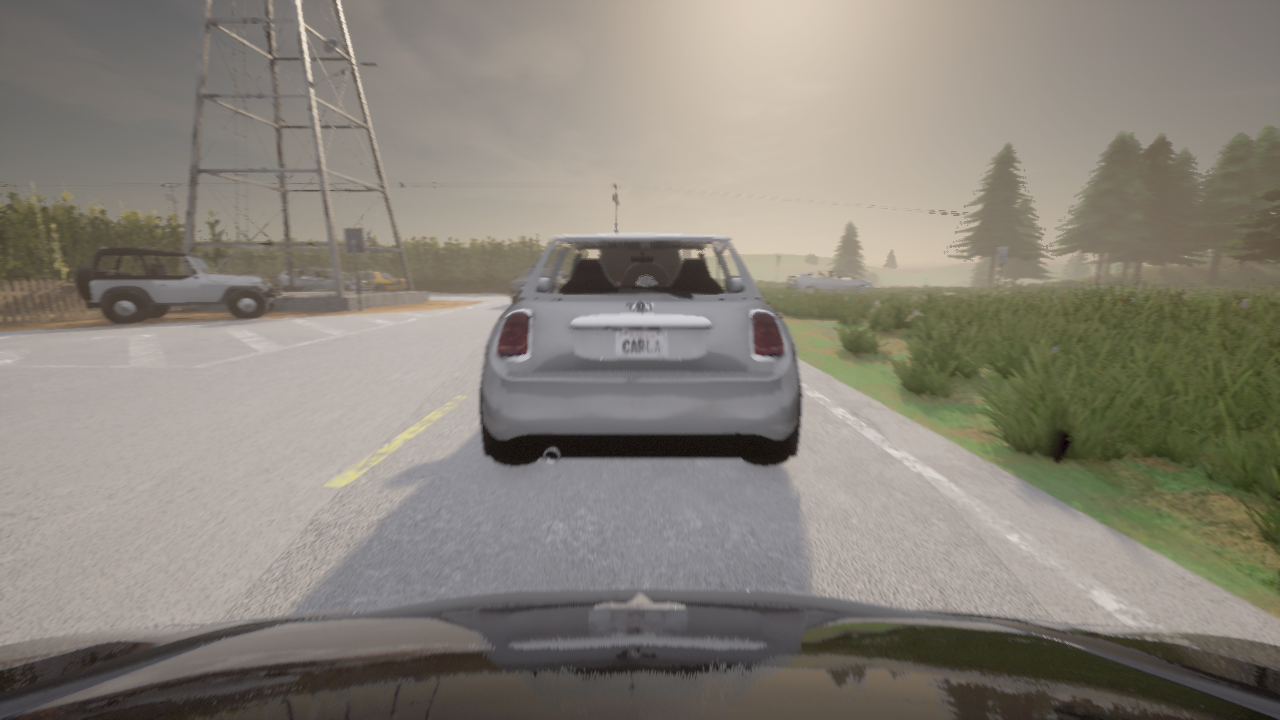cyclist: (0, 588, 1279, 719), (479, 233, 801, 466), (75, 247, 281, 323), (277, 267, 374, 290), (786, 270, 872, 292), (350, 269, 407, 290), (509, 266, 534, 303)
